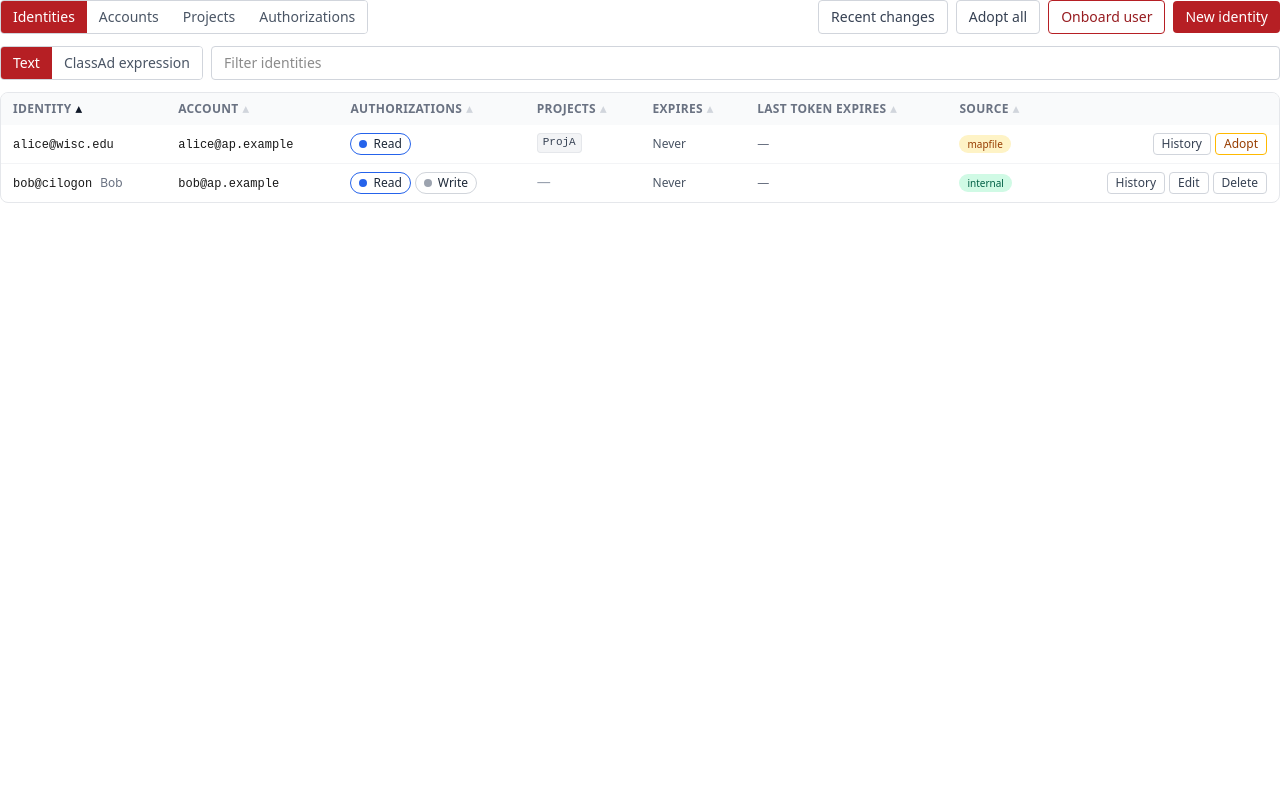
Directory › names a failed onboarding step once, counting from 1
Click the button "Onboard user" at [1107, 17], box [1048,0,1165,34]
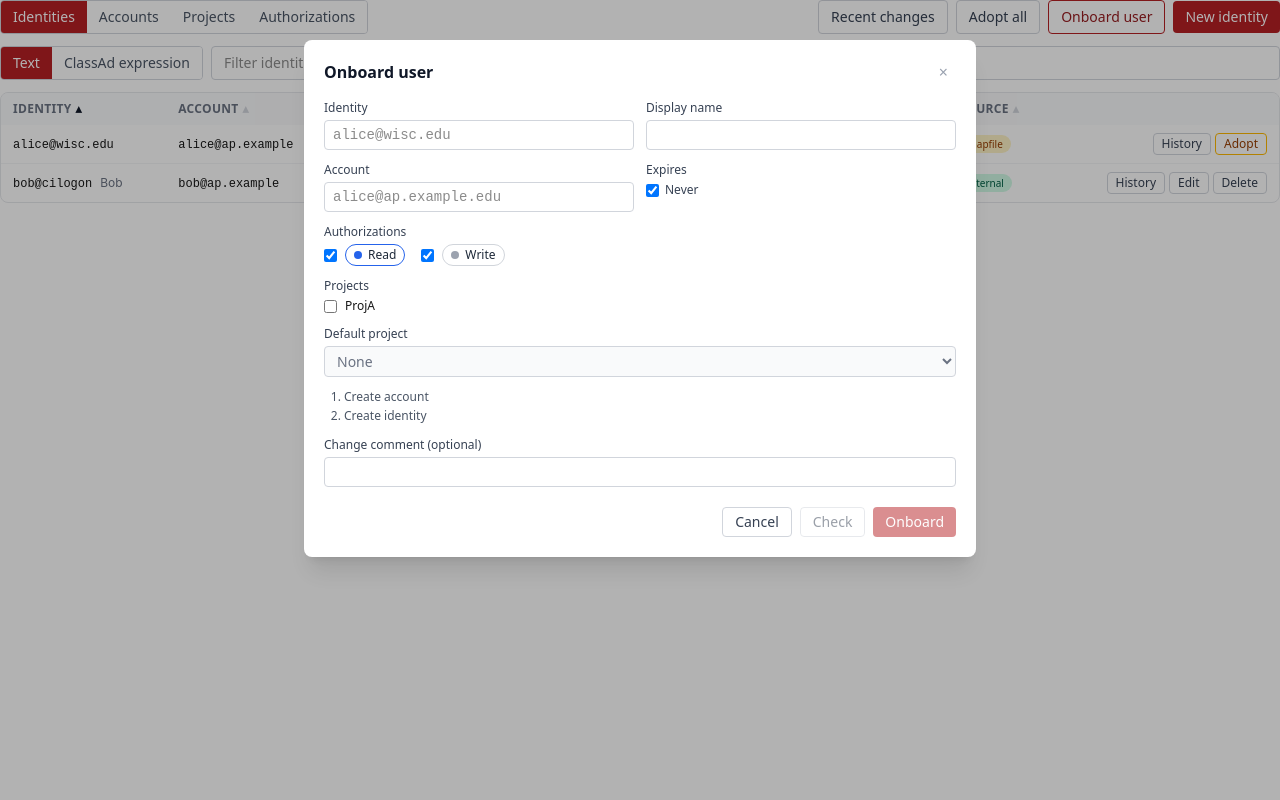
Type "newbie" into the field labelled "Identity" at [479, 135], box [324,120,634,150]
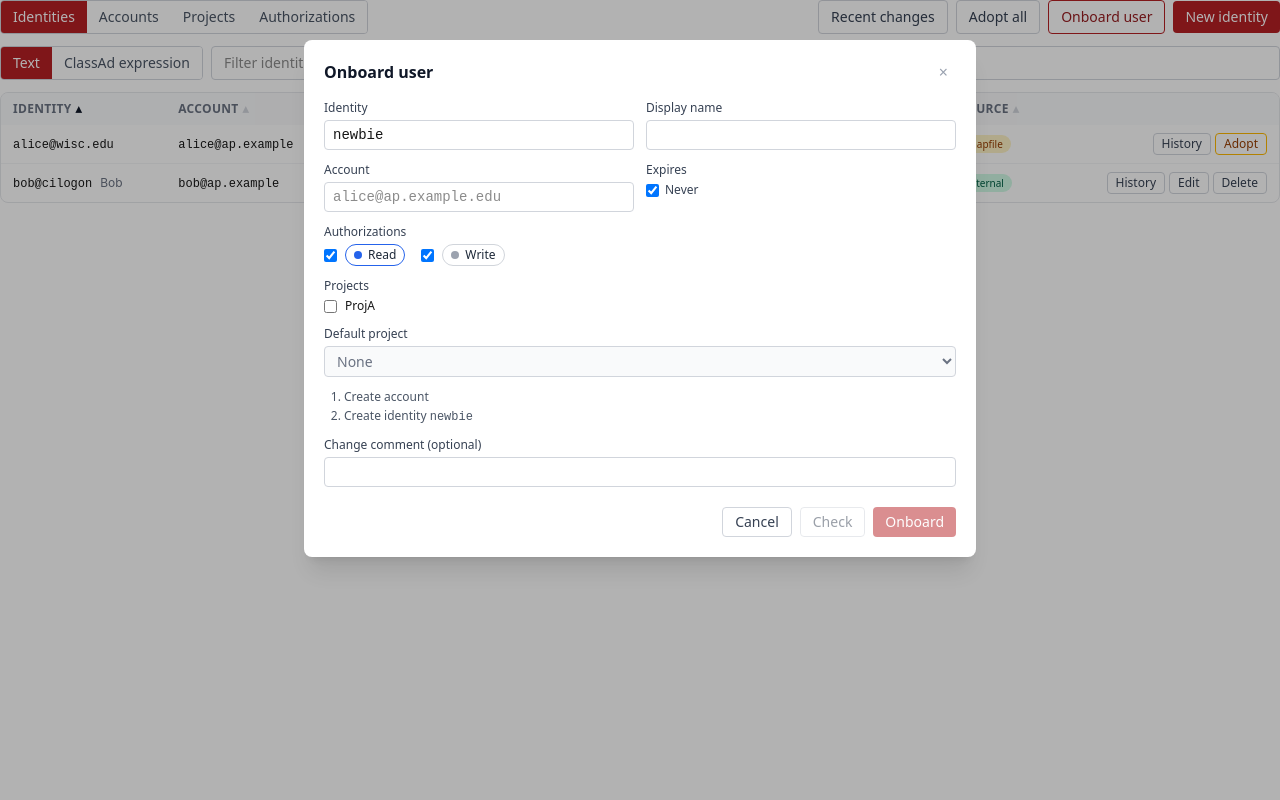
Type "bob@ap.example" into the field labelled "Account" at [479, 197], box [324,182,634,212]
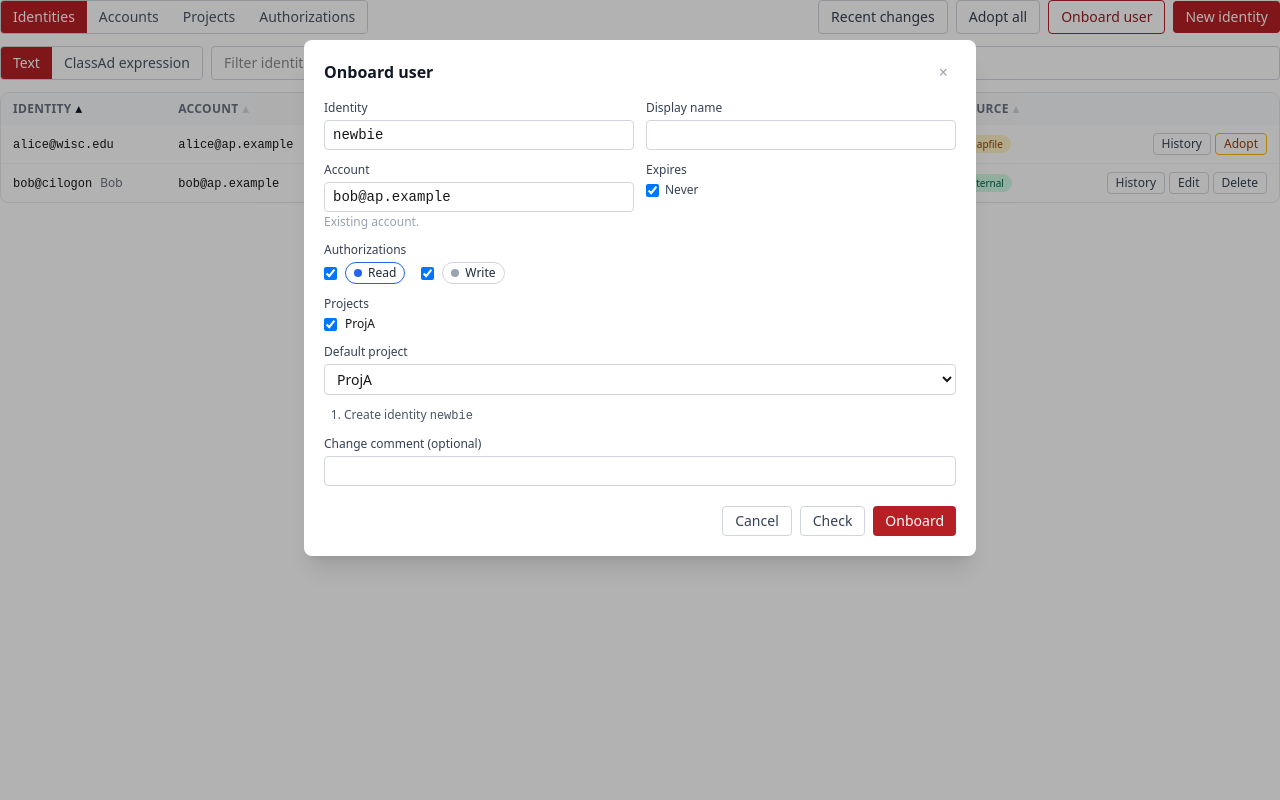
Click the button "Onboard" at [915, 521], box [873,506,956,536]
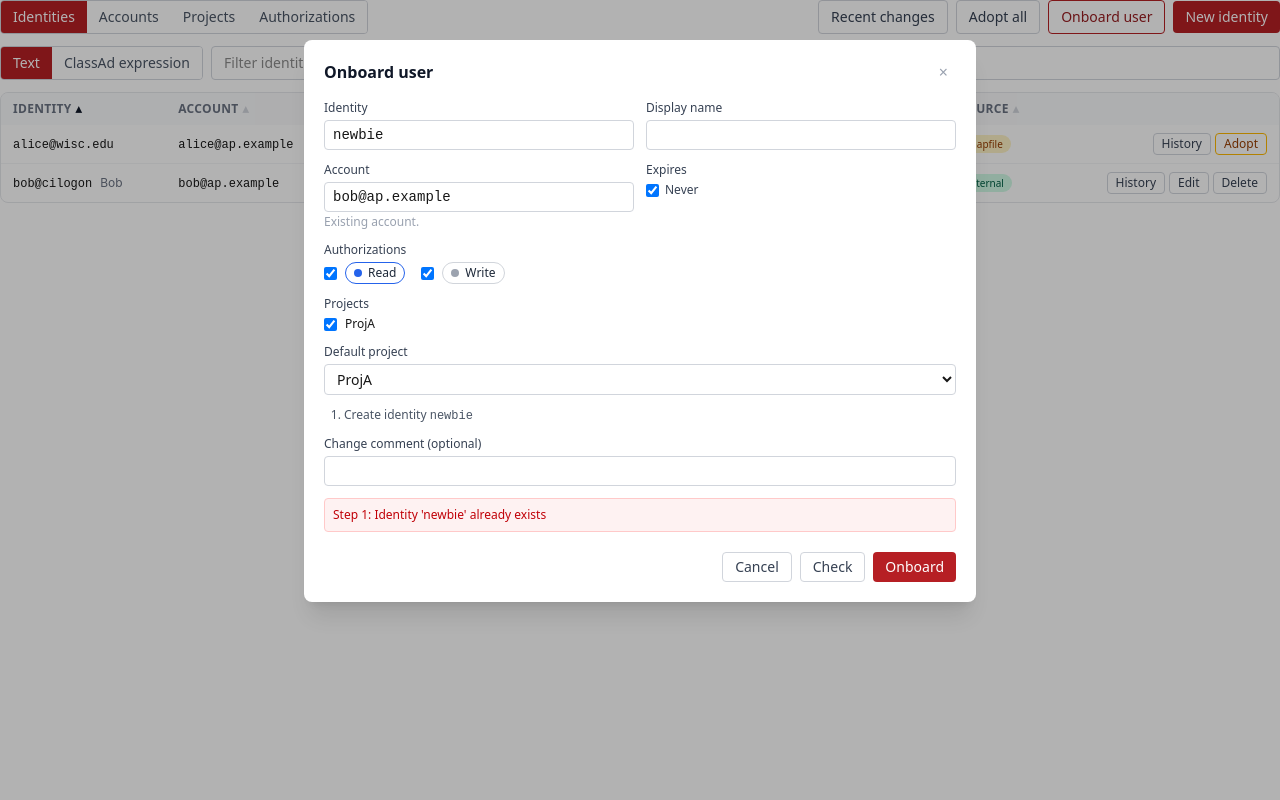
expect the message reads "Step 1: Identity 'newbie' already exists": met, box [333,506,546,523]
